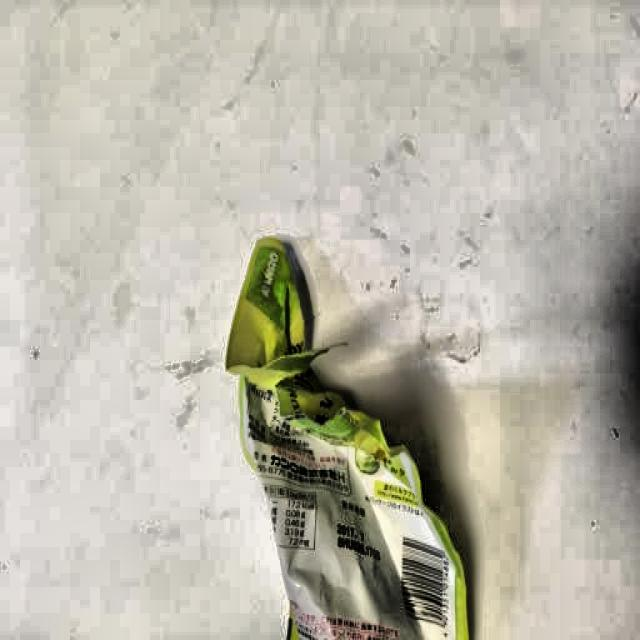plastic: (219, 231, 478, 640)
